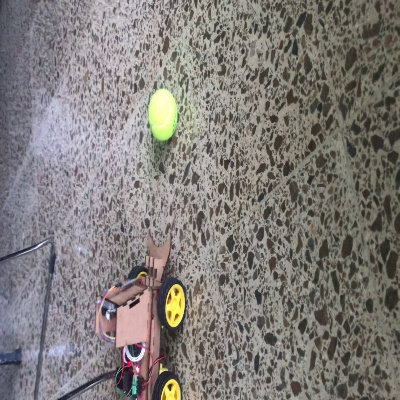Ball: (148, 90, 179, 140)
Robot: (95, 228, 187, 399)
